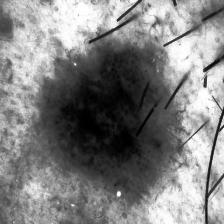Benign Marking or Mole: (43, 49, 166, 192)
